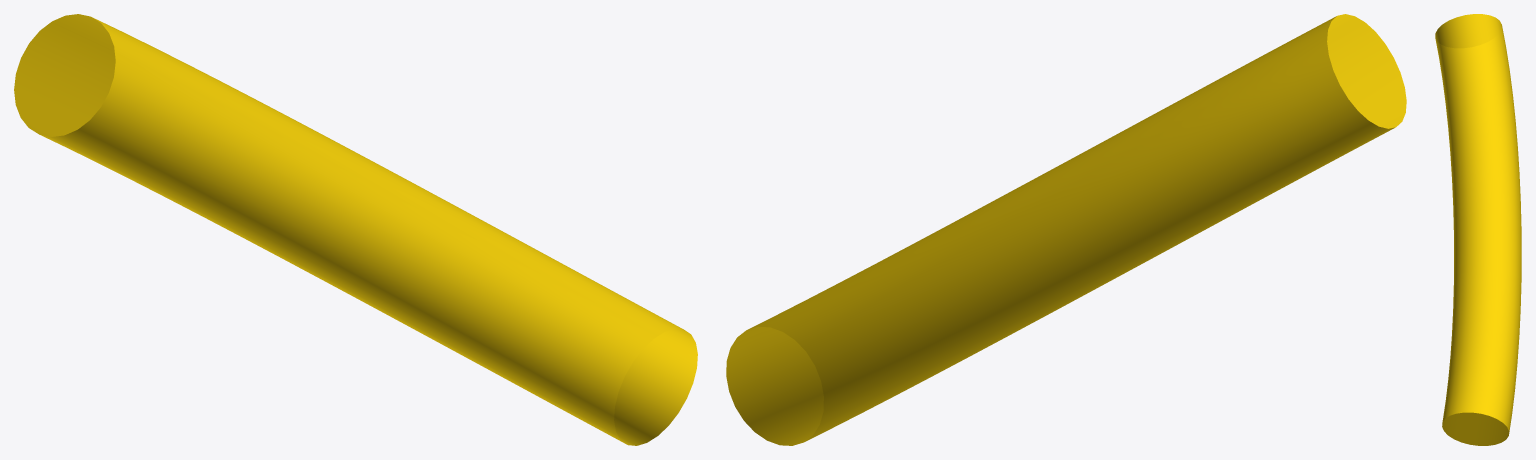
The model's file is Event_420094457_track_68.fbx.
The picture shows the model from 3 angles, left to right: view 1: azimuth 30°, elevation 25°; view 2: azimuth 150°, elevation 25°; view 3: azimuth 270°, elevation 25°; orthographic projection. The views are drawn at different scales.
Visible parts, largest first — view 1: Model; view 2: Model; view 3: Model.
Boxes of the visible parts, x1,y1,x2,y2 form: Model: (14,14,697,445); Model: (726,14,1406,445); Model: (1435,14,1521,445).
Size of the model in its own units: 0.2382 by 0.1911 by 0.0509.
